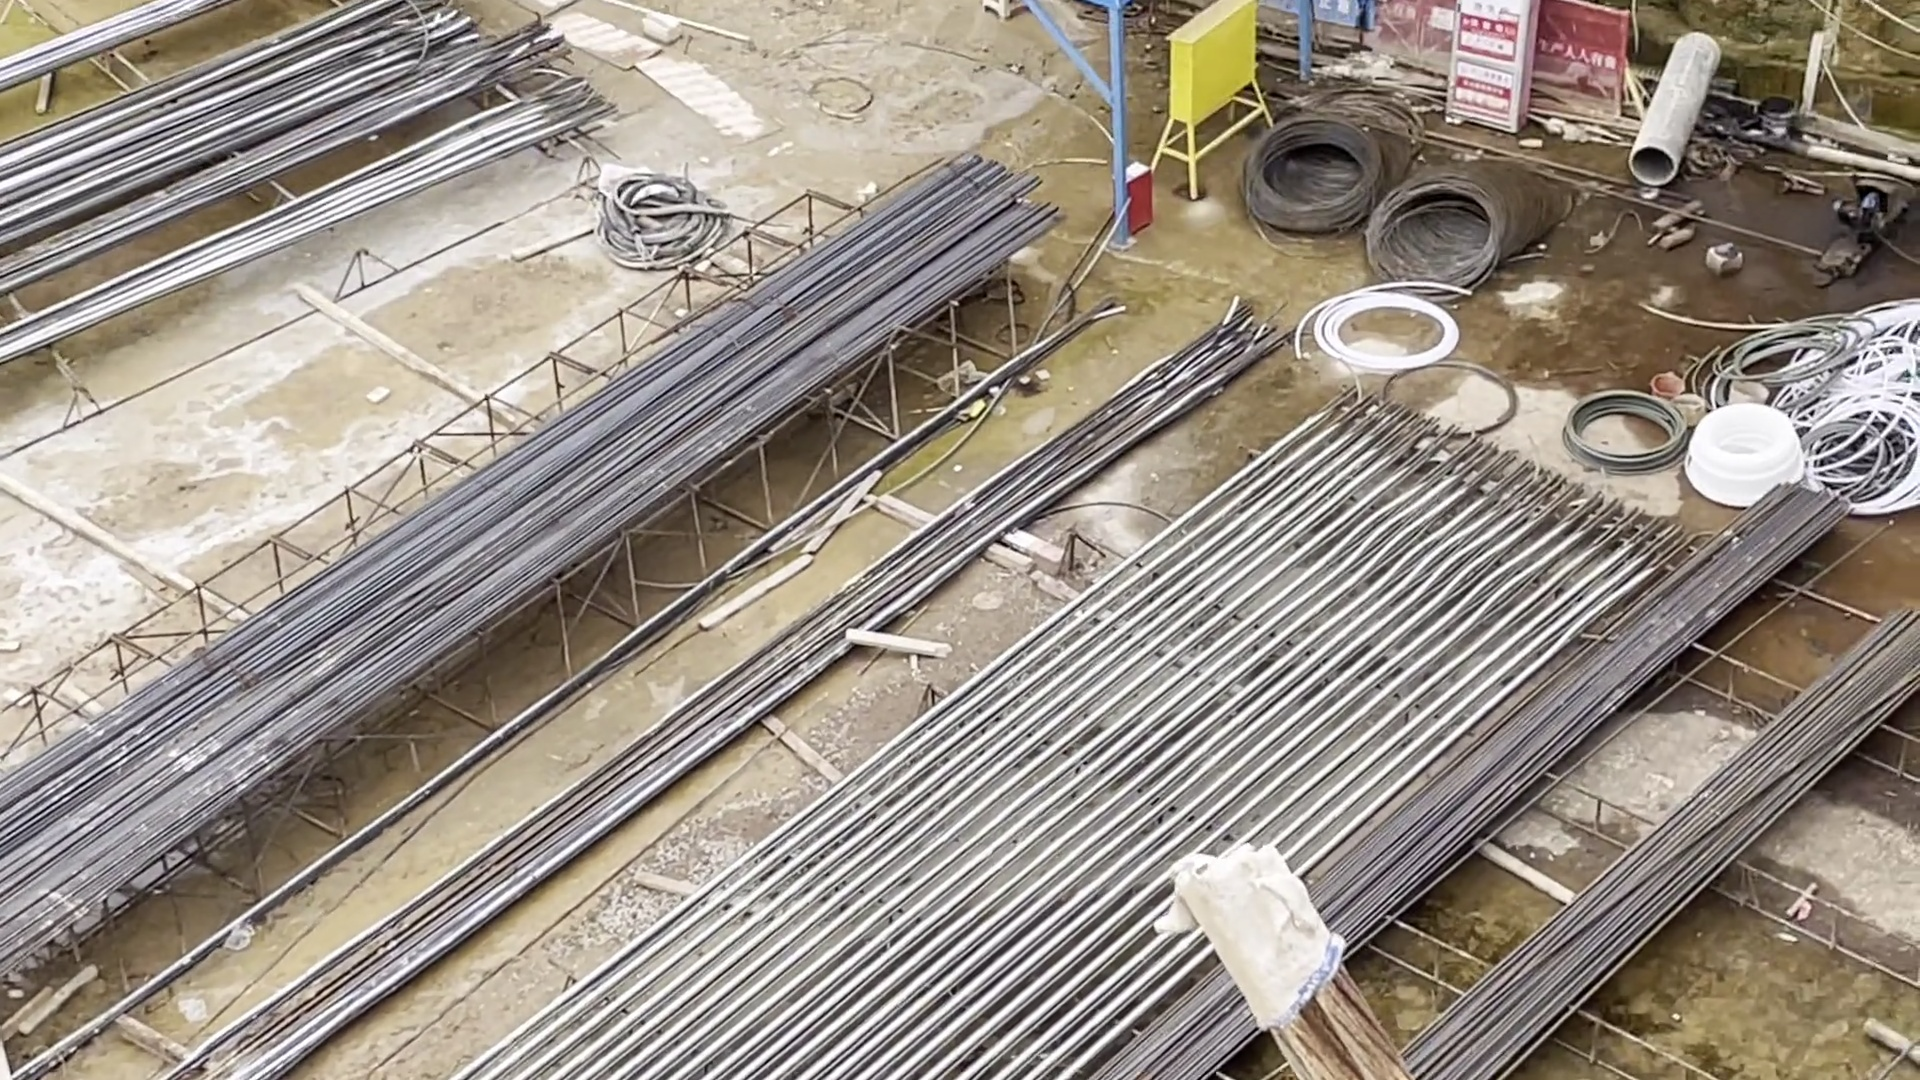ebox: (1153, 1, 1280, 200)
rebar: (1179, 472, 1920, 1080), (1, 401, 607, 953), (607, 154, 1067, 508), (1, 7, 593, 236)
slogan: (1530, 29, 1627, 76)
